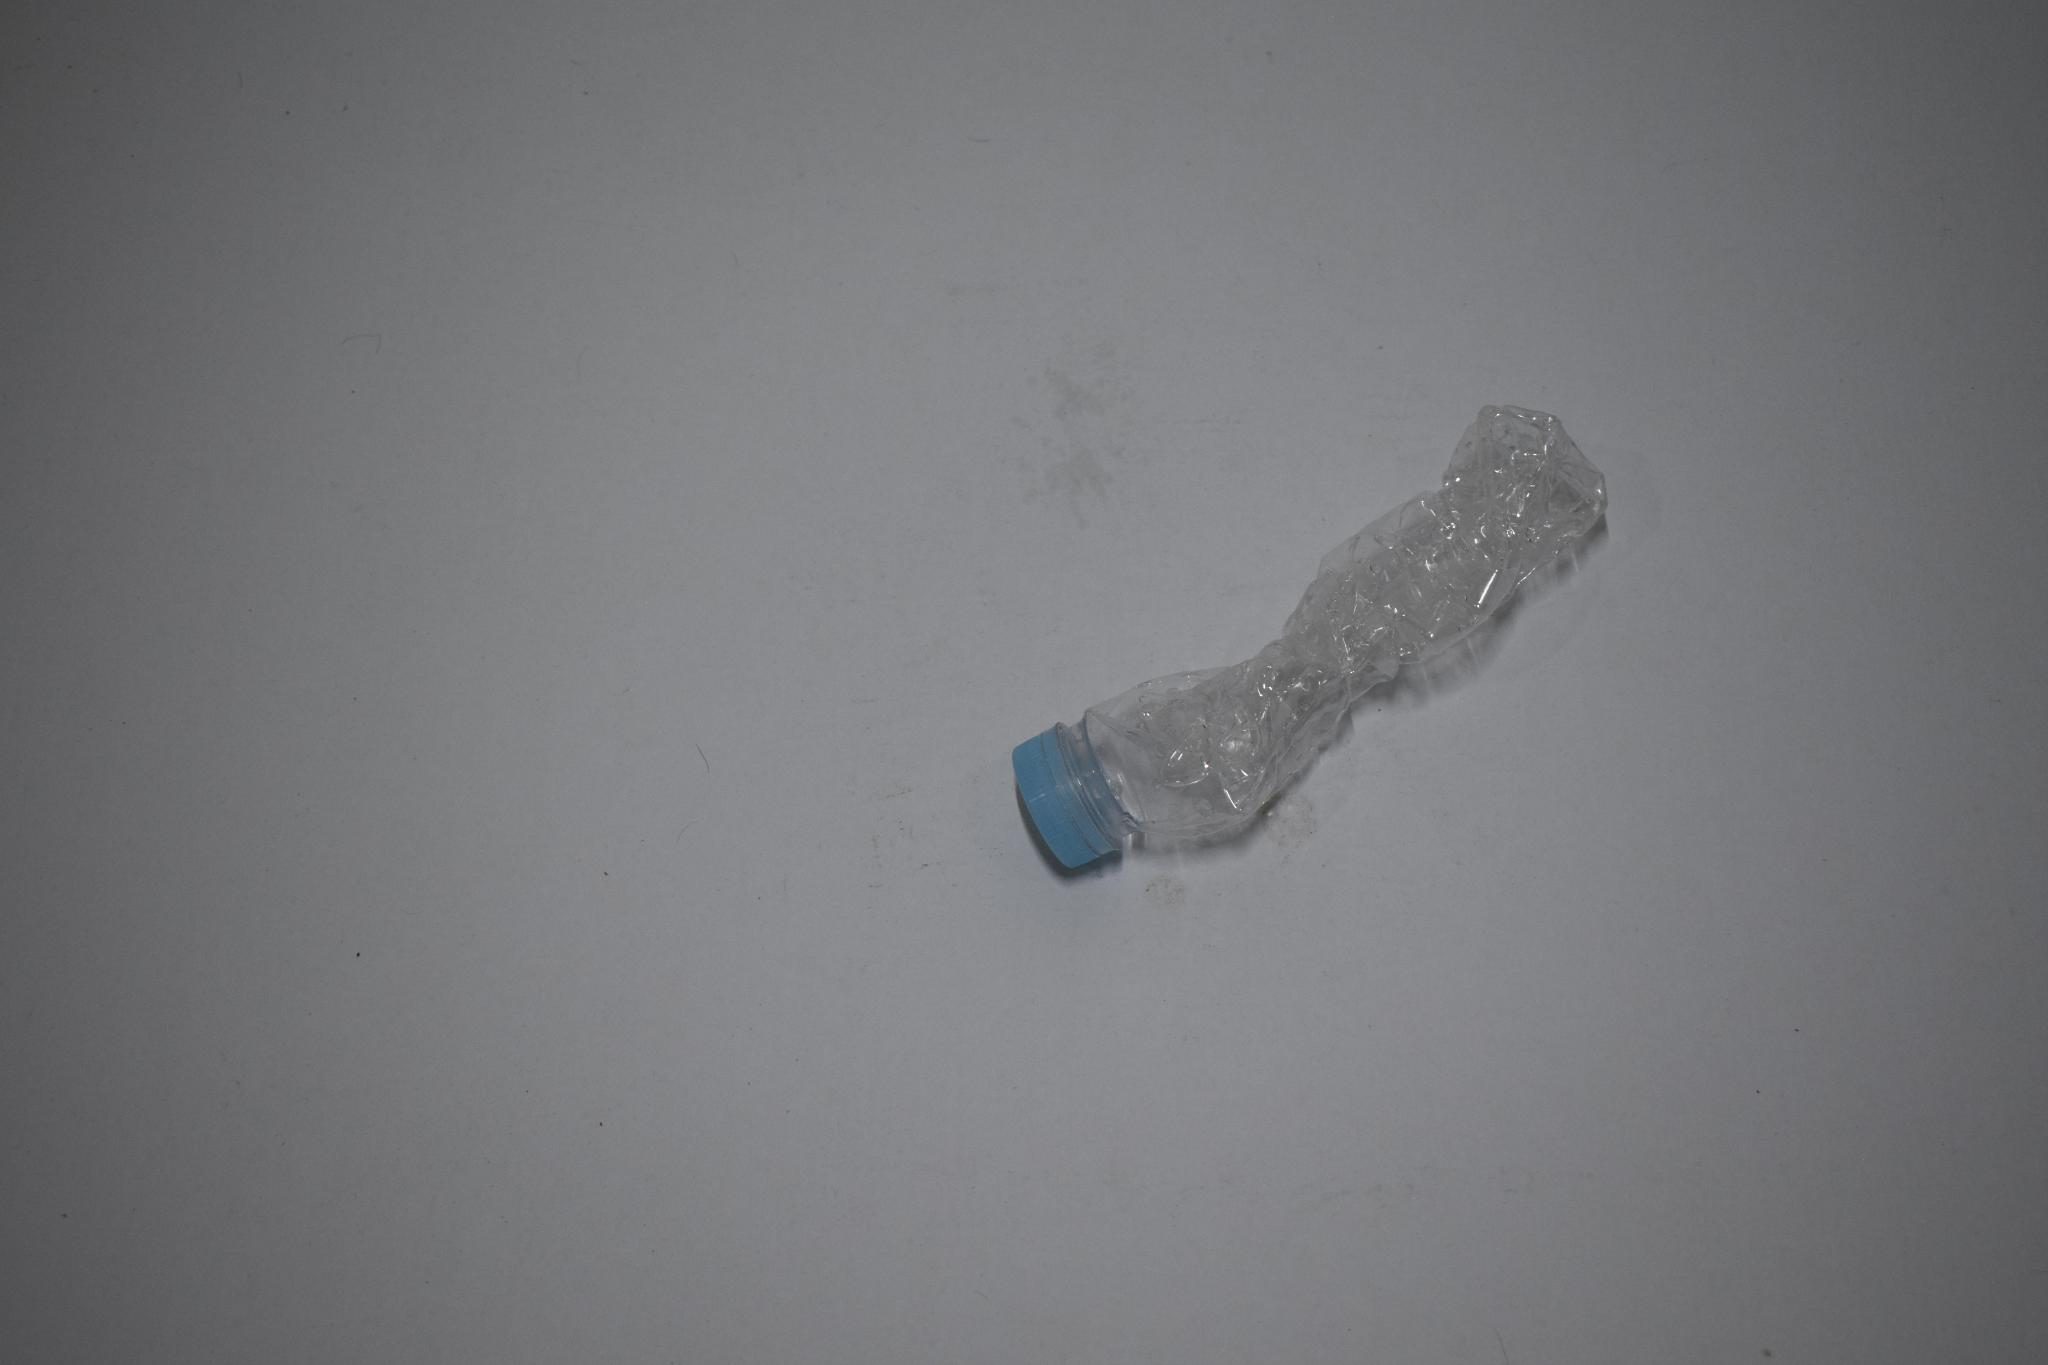bottle: (1004, 393, 1614, 887)
